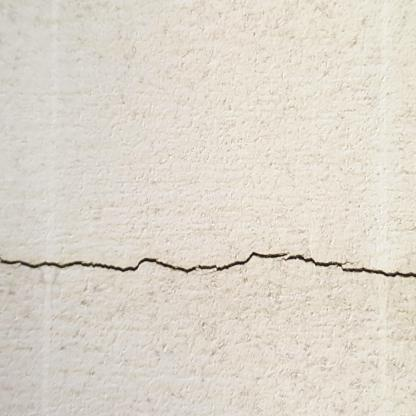crack: (0, 252, 416, 278)
